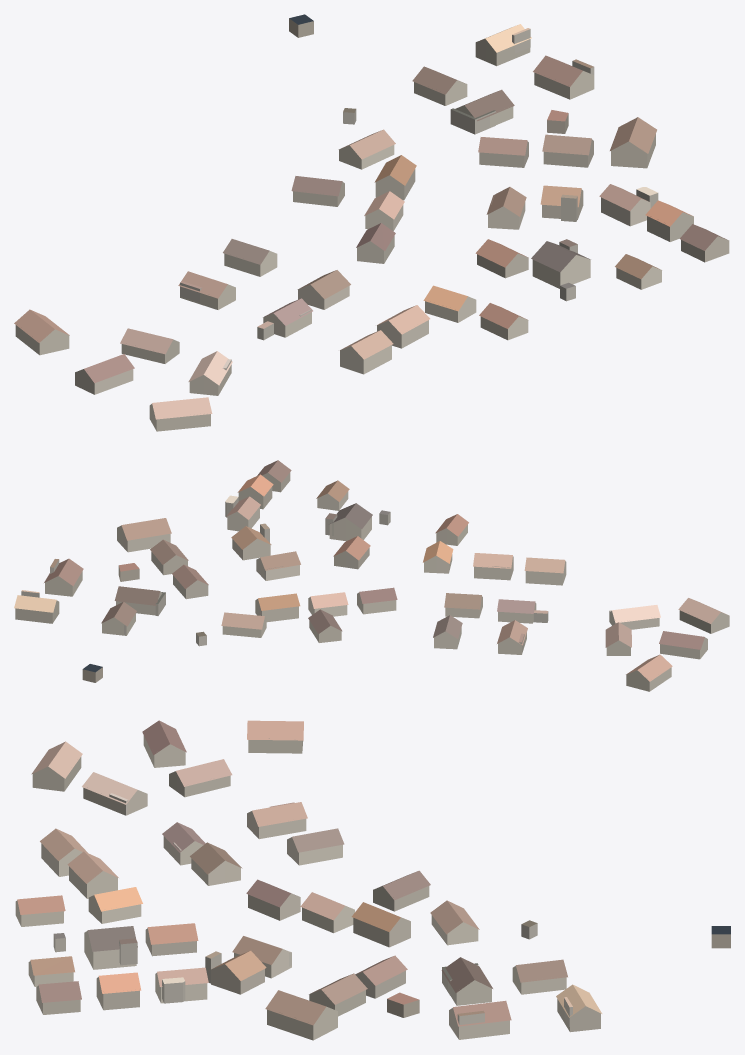
3 views of the same model, one above another, from view 1: azimuth 30°, elevation 25°; view 2: azimuth 150°, elevation 25°; view 3: azimuth 270°, elevation 25° (orthographic). The views are drawn at different scales.
Parts seen in each view (by area): view 1: tuile; view 2: tuile; view 3: tuile.
Boxes of the visible parts, box(x1,y1,x2,y2) form: tuile: box(14, 14, 729, 431); tuile: box(14, 460, 729, 691); tuile: box(15, 720, 730, 1040).
Bounding box in the file's own units: 219 × 23.26 × 195.
